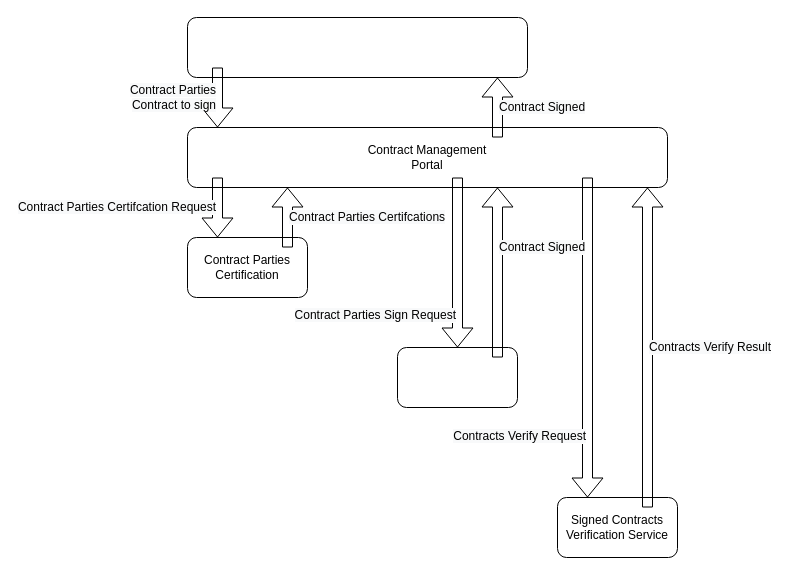
Some shapes in this 788 by 575 pixel diagram are drawn without their labels. Each missing label, with the box of its shape:
Business Applications: (186, 16, 528, 78)
Online Contract Signoff: (396, 346, 518, 408)
